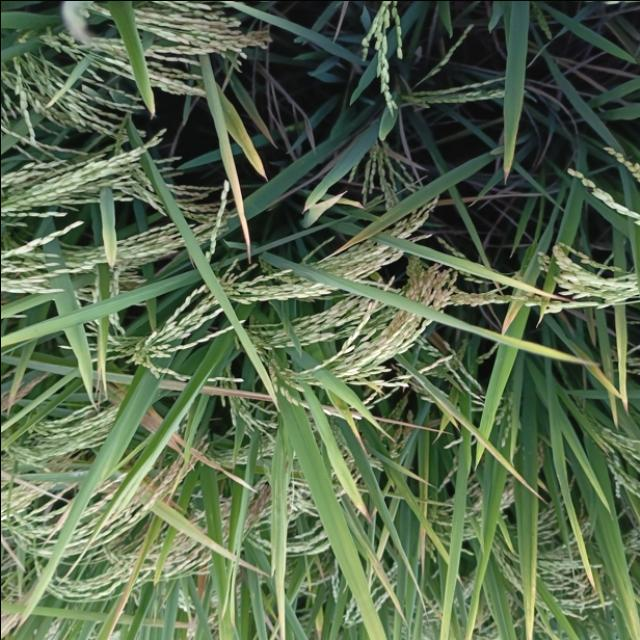Hawar Daun Bakteri: (89, 364, 238, 474)
